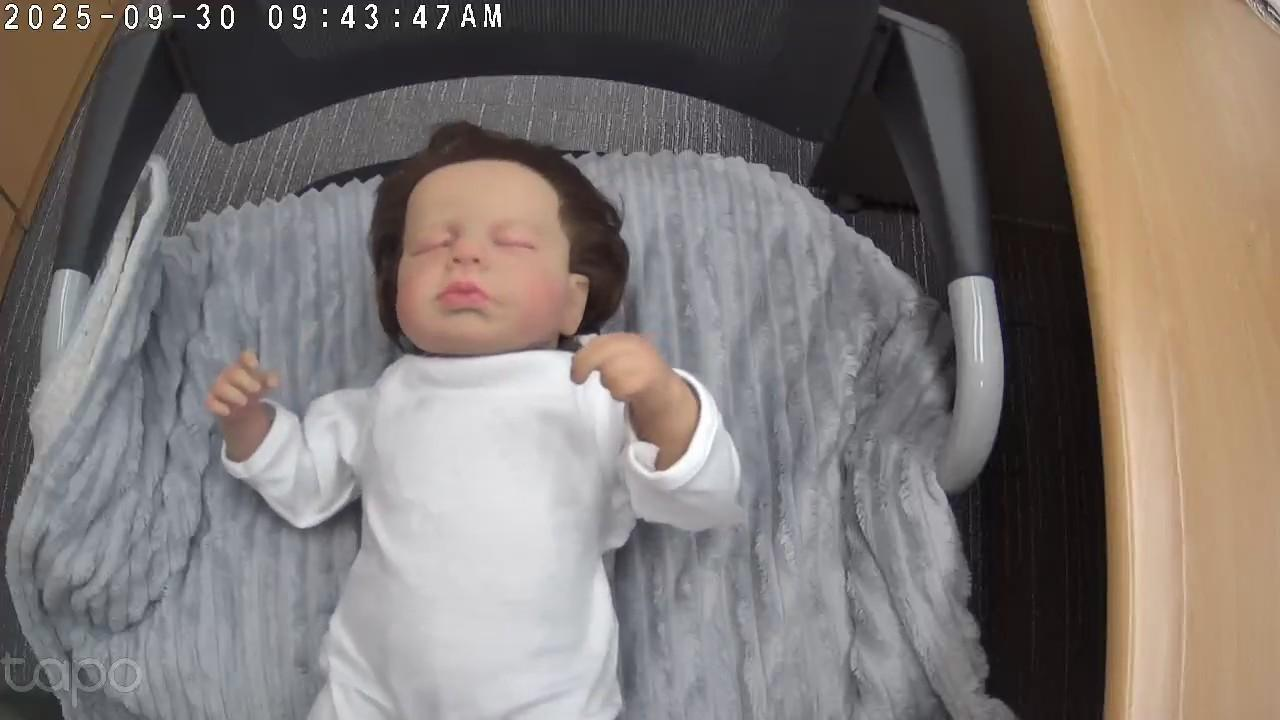hand: (568, 330, 673, 413), (208, 347, 278, 422)
